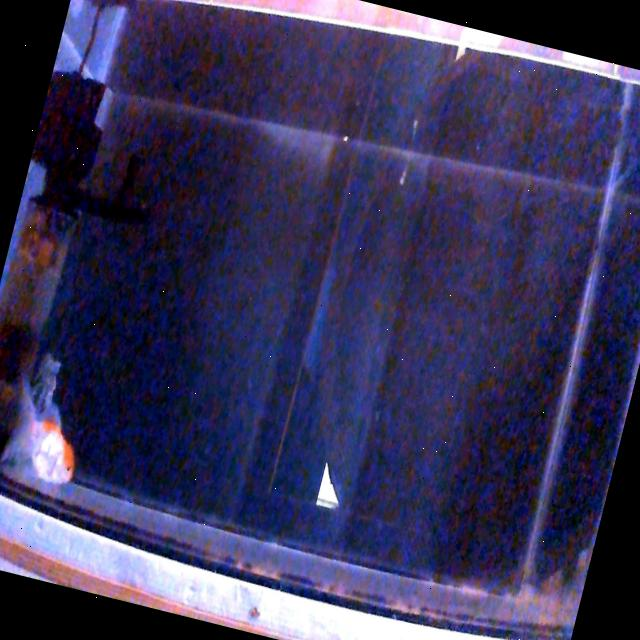fish: (0, 378, 91, 489)
